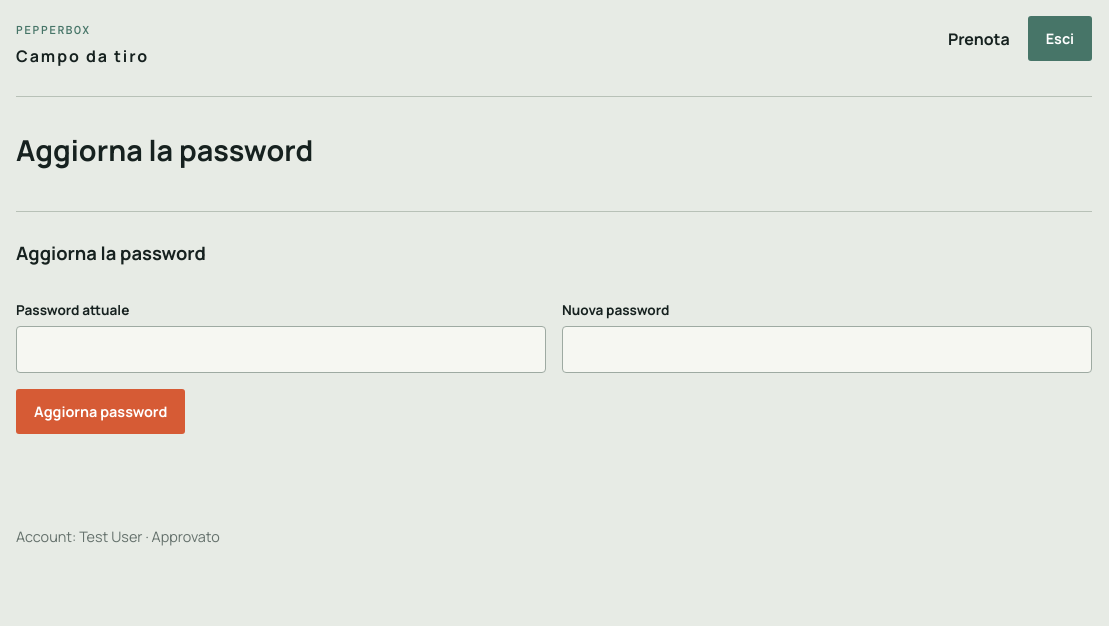
Test: Range session recovery › forced-change sessions do not request domain data and can log out
This screenshot has width=1109, height=626.
Click the button "Esci". click: (1060, 38)
box: [1028,16,1092,61]
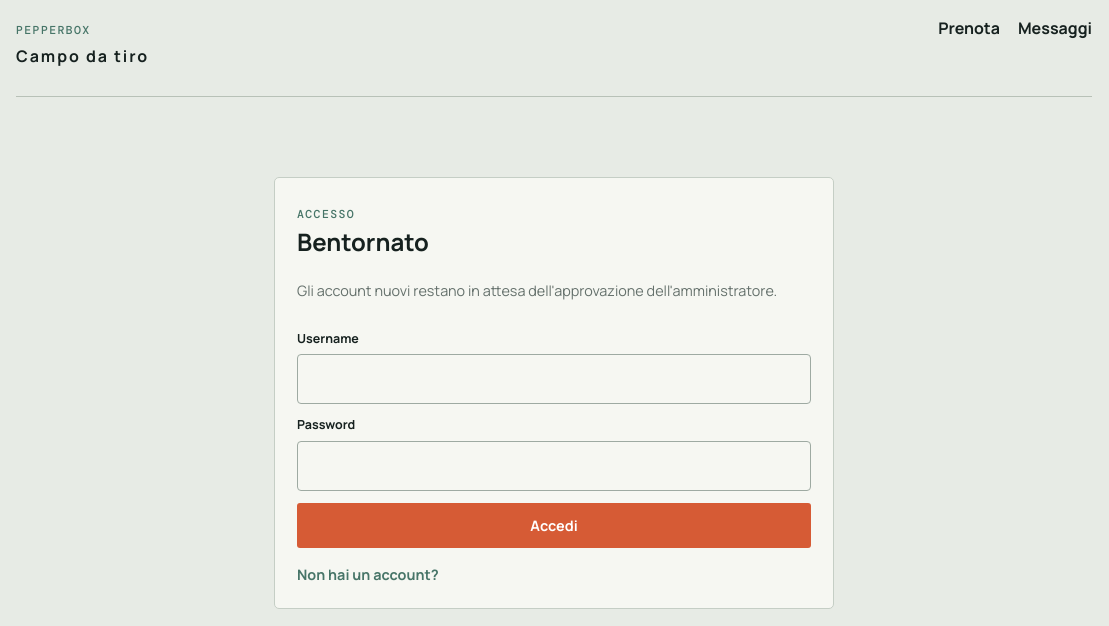
Expected: the text "Bentornato" is shown, [297,225,429,258]
Expected: the text "Aggiorna la password" is gone
